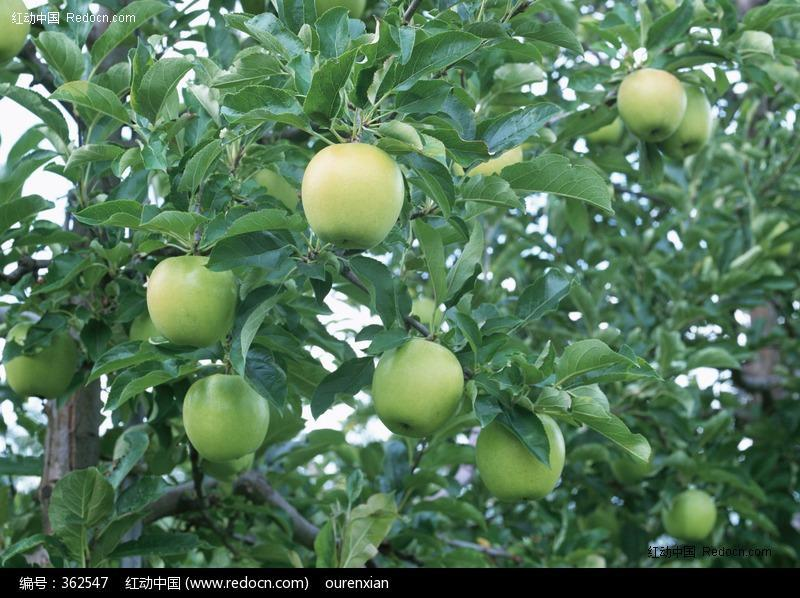apple: (299, 141, 405, 251), (372, 334, 465, 441), (183, 370, 271, 472), (147, 253, 238, 348), (473, 413, 567, 504), (615, 67, 686, 143), (670, 81, 711, 155), (664, 492, 717, 542)
